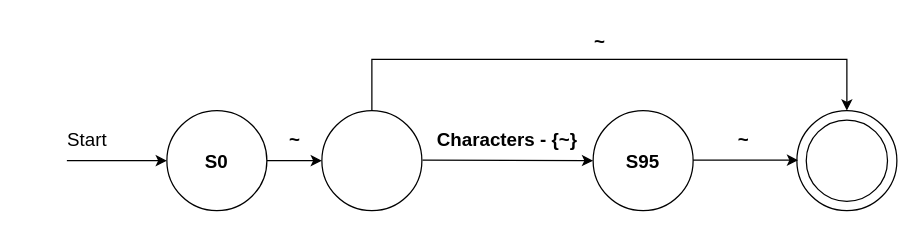
Some shapes in this 919 by 233 pixel diagram are drawn without their labels. Each missing label, with the box of its shape:
S94: (321, 109, 422, 211)
S96: (805, 119, 888, 201)
